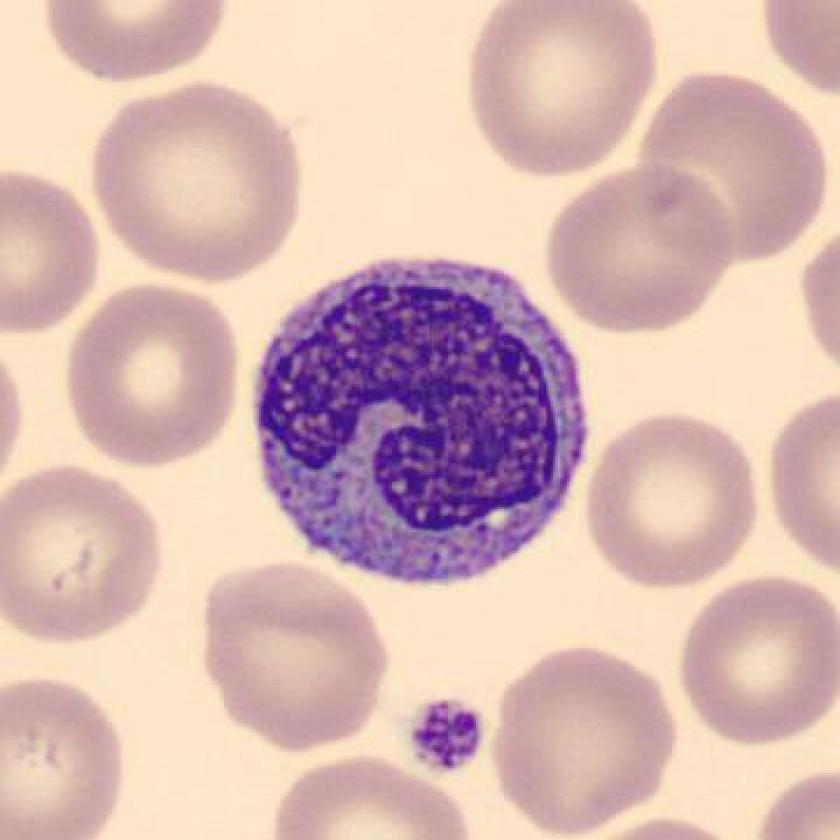monocyte: (241, 242, 608, 605)
